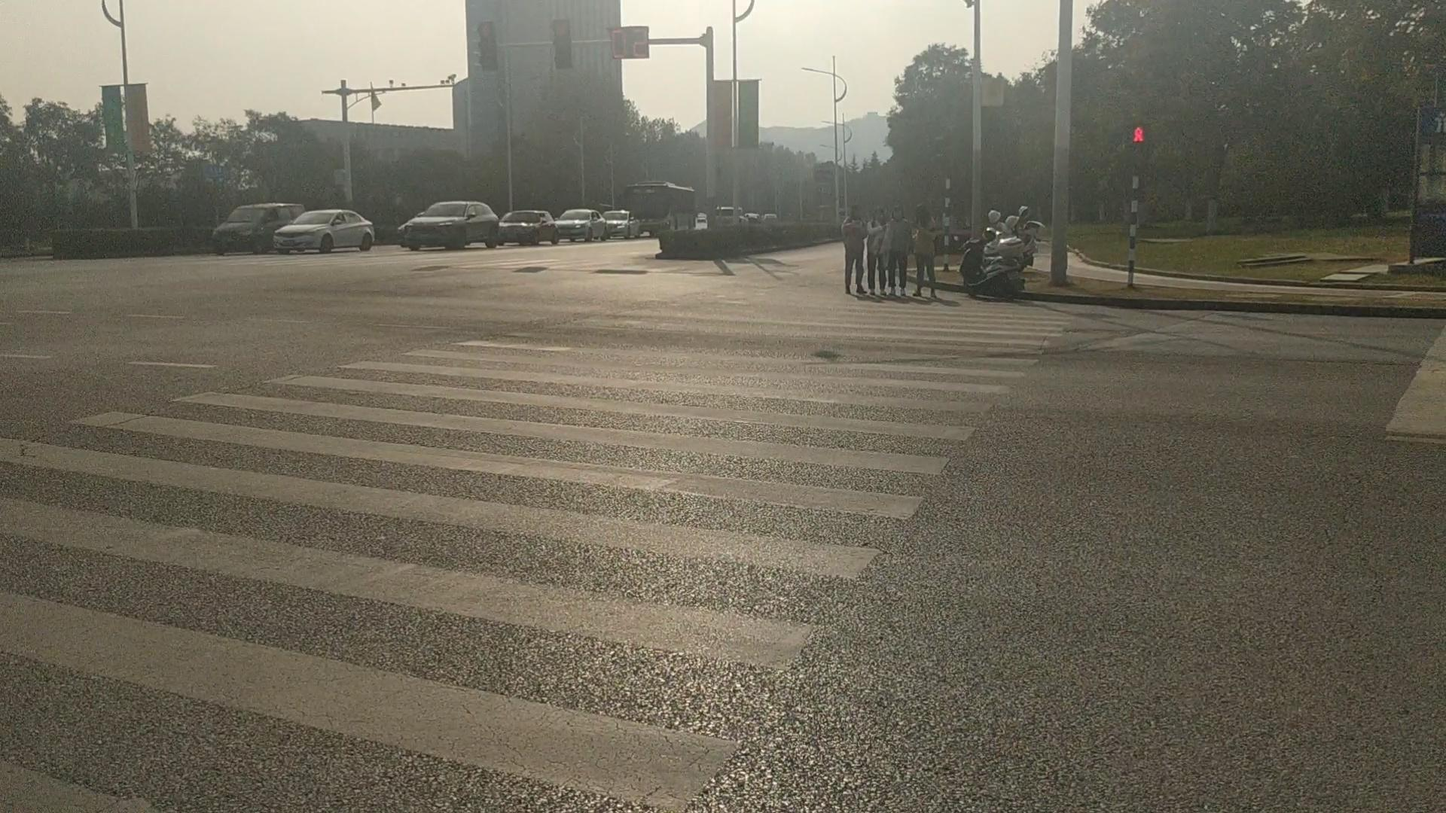car: (398, 199, 501, 251), (211, 202, 302, 255), (276, 208, 377, 253), (498, 209, 558, 246), (592, 208, 638, 239), (556, 209, 598, 242)
